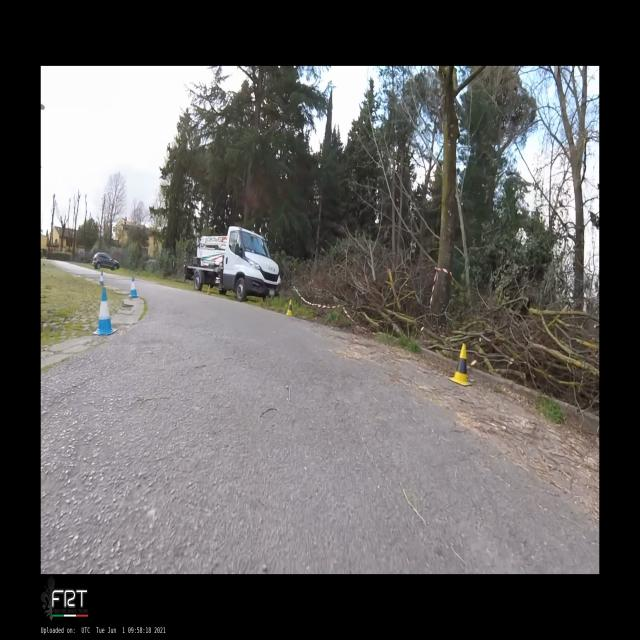blue_cone: (92, 288, 117, 335), (128, 277, 138, 297), (98, 272, 105, 286)
unknown_cone: (207, 284, 211, 296)
yellow_cone: (449, 343, 472, 386), (286, 299, 292, 316)
